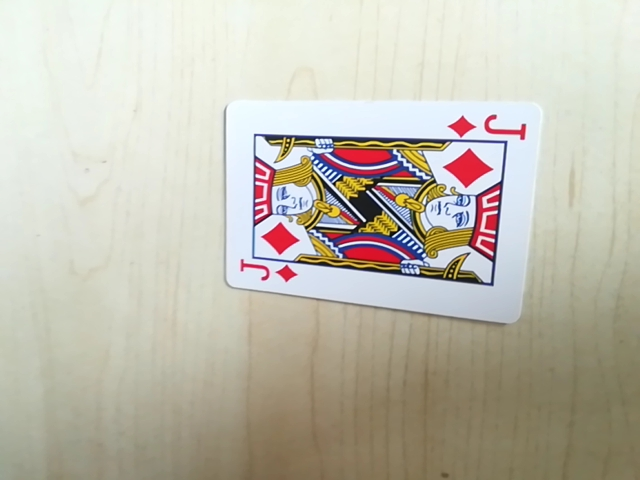fk j: (450, 109, 528, 143), (237, 257, 300, 291)
